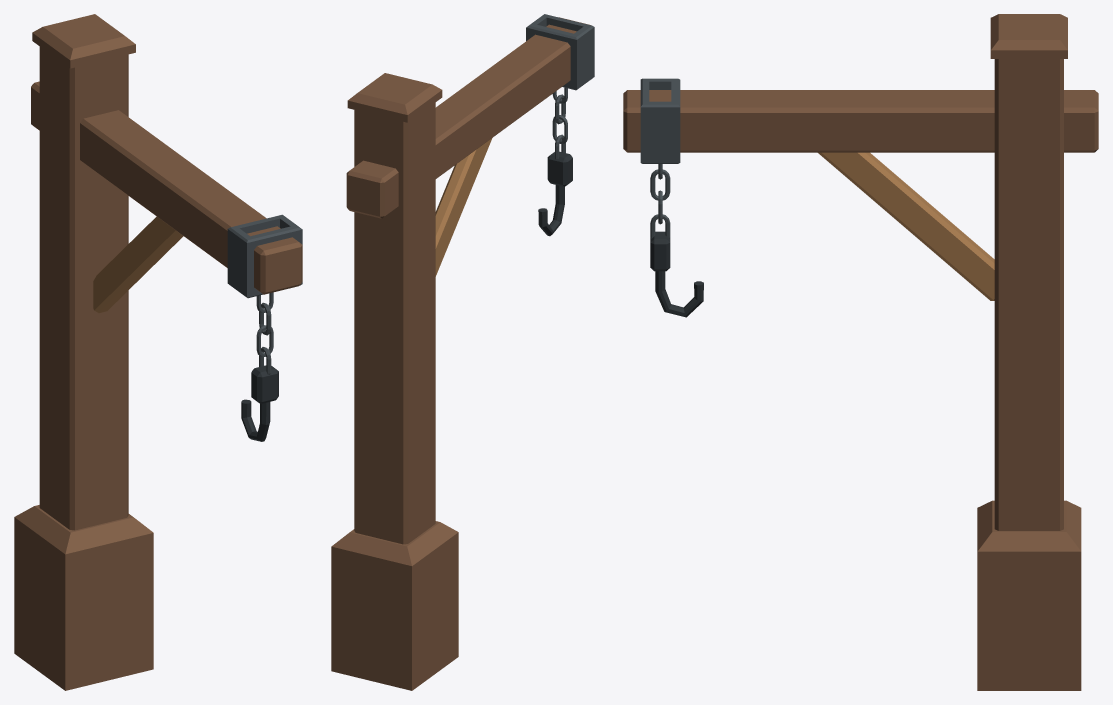
The model's file is mdvl_interiors_potcrane_01.glb.
3 views of the same model, side by side, from view 1: azimuth 30°, elevation 25°; view 2: azimuth 150°, elevation 25°; view 3: azimuth 270°, elevation 25° (orthographic). The views are drawn at different scales.
Parts seen in each view (by area): view 1: mdvl_interiors_potcrane_01; view 2: mdvl_interiors_potcrane_01; view 3: mdvl_interiors_potcrane_01.
Part boxes in pixels (x1=…): mdvl_interiors_potcrane_01: x1=14, y1=14, x2=302, y2=690; mdvl_interiors_potcrane_01: x1=331, y1=14, x2=594, y2=690; mdvl_interiors_potcrane_01: x1=623, y1=14, x2=1098, y2=690.
Bounding box in the file's own units: 0.21 × 1.43 × 0.96.
Materials: 1 (1 with a texture image).
